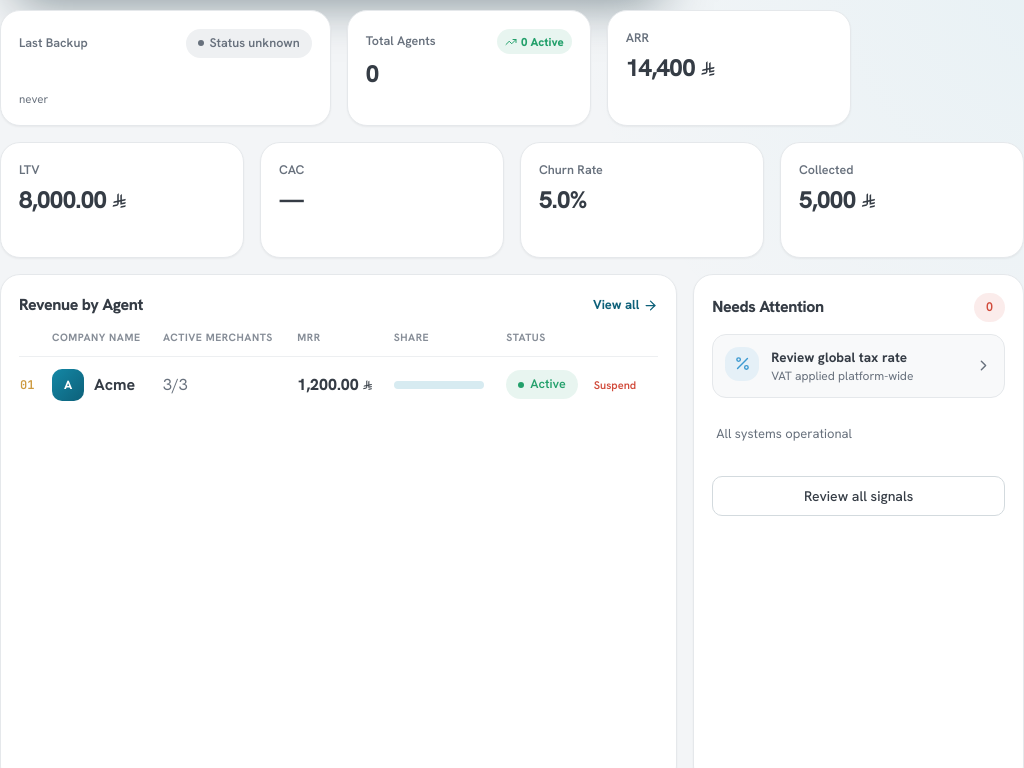
Test: MasterDashboard suspend cascade preview (#236 A4) › previews the merchant + staff blast radius before confirming a suspend
This screenshot has width=1024, height=768.
(page scrolled)
Step 1. Click the button with test id "suspend-agent-7" → point(615, 385), box [586, 372, 644, 397]
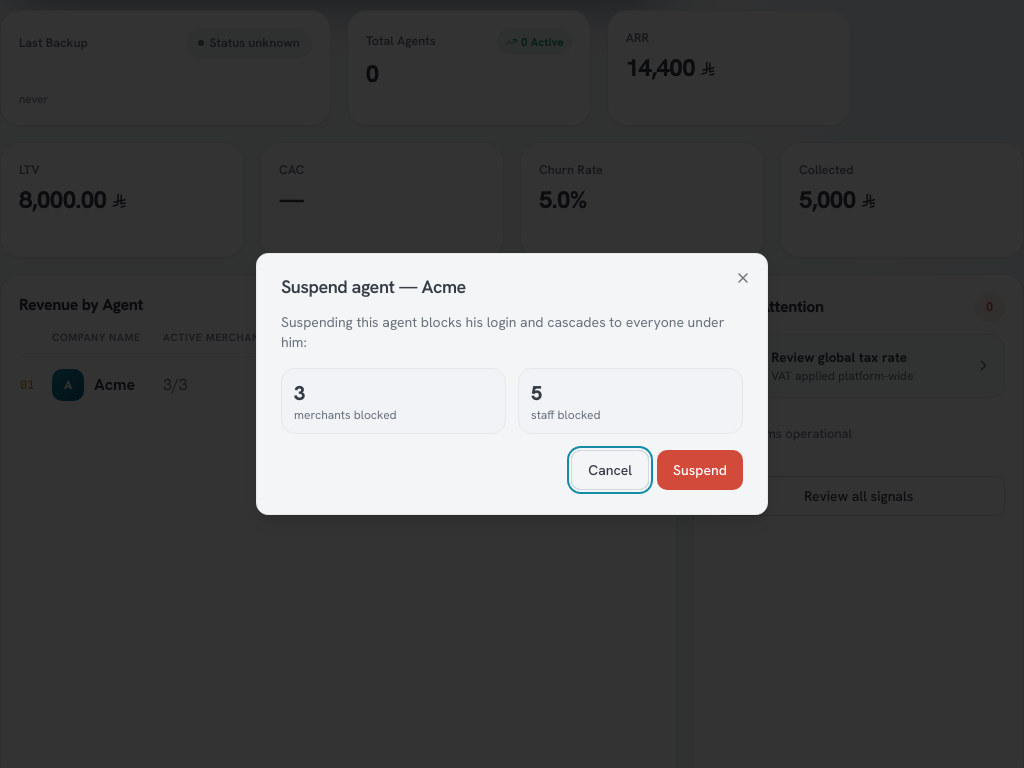
Result: the text with test id "suspend-impact-merchants" reads "3" at [294, 380, 305, 406]
Result: the text with test id "suspend-impact-staff" reads "5" at [531, 380, 542, 406]
